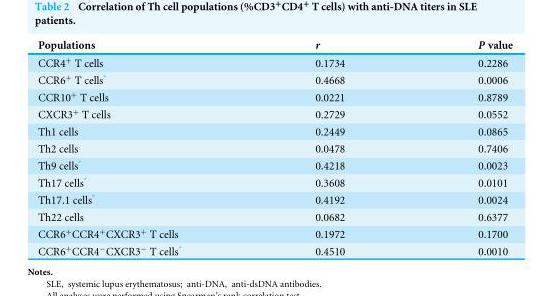table: (37, 36, 512, 257)
table column: (37, 36, 247, 257), (247, 36, 410, 257), (410, 36, 512, 257)
table column header: (37, 36, 512, 52)
table row: (37, 52, 512, 70), (37, 104, 512, 122), (37, 155, 512, 173), (37, 70, 512, 87), (37, 87, 512, 104), (37, 122, 512, 139), (37, 173, 512, 190), (37, 190, 512, 207), (37, 207, 512, 224), (37, 224, 512, 241), (37, 36, 512, 52), (37, 139, 512, 155), (37, 241, 512, 257)
